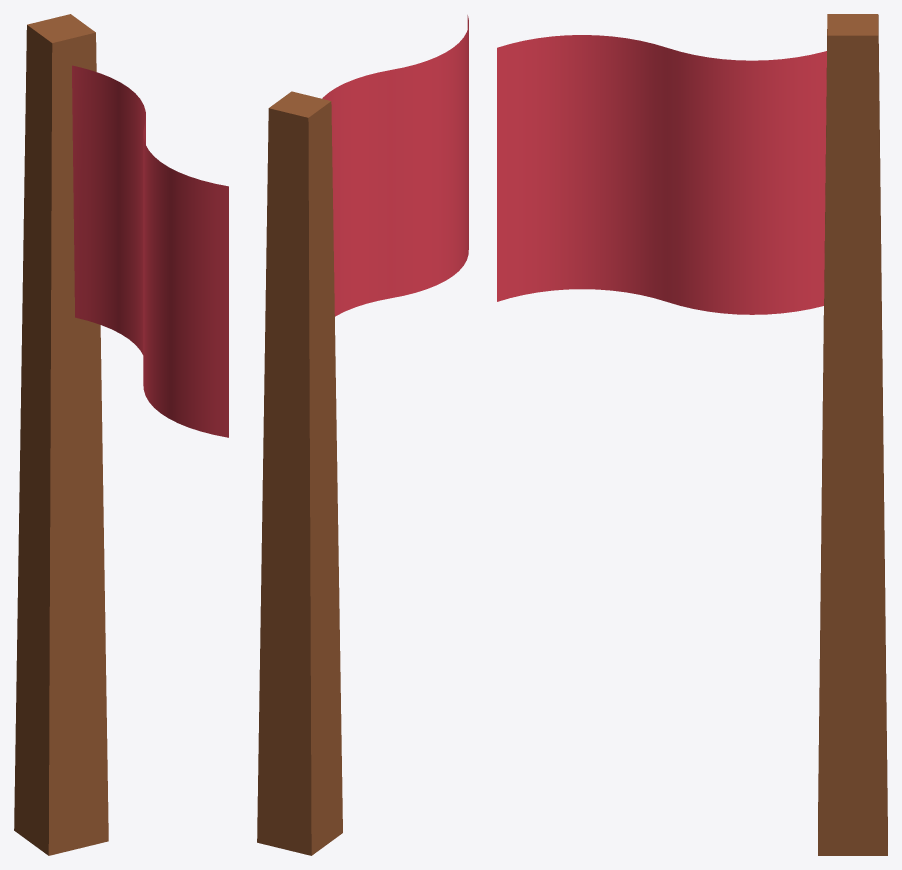
The model's file is flag.fbx.
3 views of the same model, side by side, from view 1: azimuth 30°, elevation 25°; view 2: azimuth 150°, elevation 25°; view 3: azimuth 270°, elevation 25° (orthographic). The views are drawn at different scales.
Parts seen in each view (by area): view 1: flag; view 2: flag; view 3: flag.
Part boxes in pixels (x1=…): flag: x1=14, y1=14, x2=228, y2=855; flag: x1=257, y1=15, x2=468, y2=855; flag: x1=497, y1=14, x2=887, y2=855.
Bounding box in the file's own units: 0.754 × 9 × 3.91.
